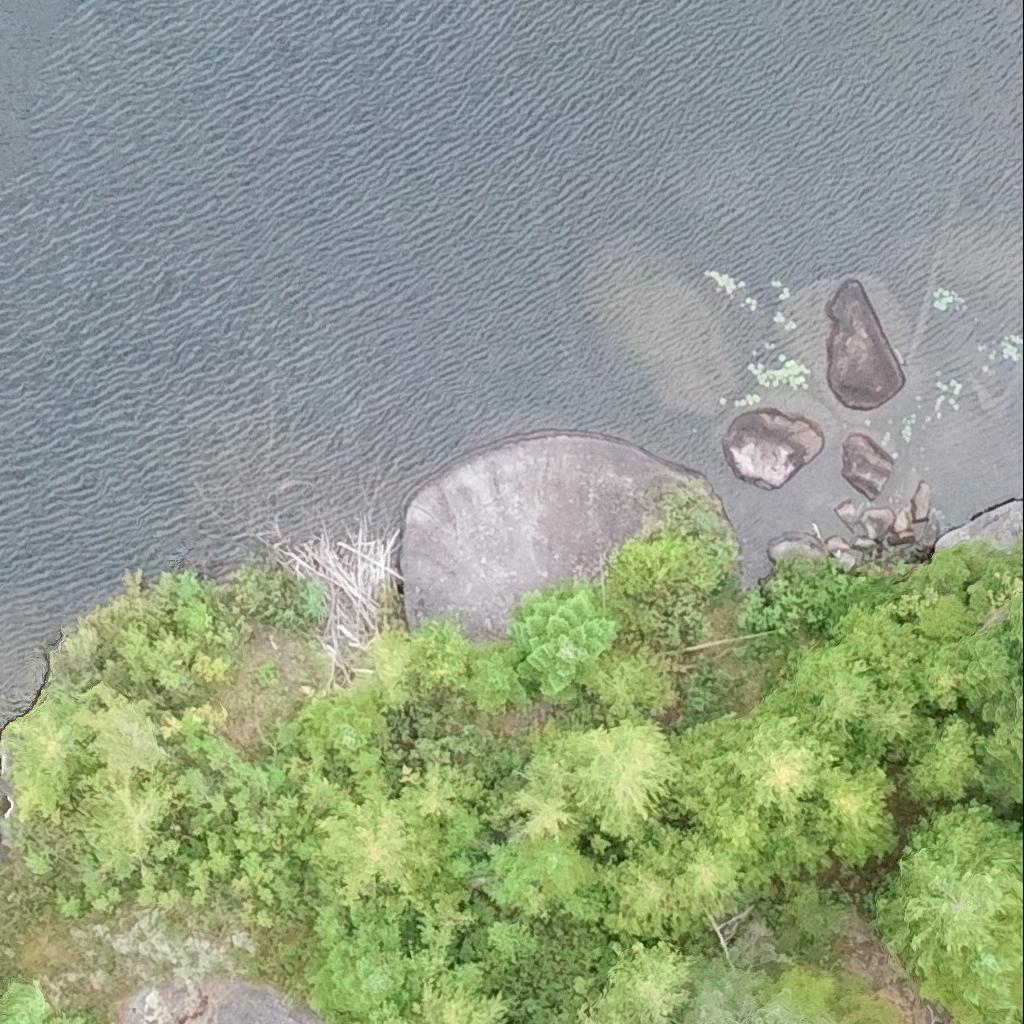crown: (877, 799, 1023, 975), (295, 733, 444, 905), (529, 709, 681, 844), (68, 766, 187, 877), (6, 696, 103, 824), (729, 713, 840, 824), (920, 908, 1023, 1023), (829, 605, 942, 703), (519, 587, 618, 695), (671, 828, 775, 929), (69, 681, 169, 776), (593, 855, 694, 948), (307, 945, 415, 1023), (824, 755, 897, 865), (793, 647, 876, 740), (605, 942, 697, 1023), (898, 713, 980, 803), (584, 648, 681, 718), (958, 617, 1022, 718), (854, 687, 937, 764), (300, 688, 385, 760), (499, 781, 587, 841), (466, 646, 543, 711), (353, 629, 412, 713), (982, 675, 1023, 790), (624, 818, 695, 881), (409, 622, 473, 690), (411, 978, 507, 1023), (416, 760, 484, 822), (609, 538, 689, 590), (916, 642, 973, 709), (0, 979, 86, 1023), (916, 593, 981, 648), (521, 750, 579, 797), (682, 984, 738, 1023), (578, 992, 642, 1023), (363, 1000, 418, 1023), (752, 1004, 809, 1023), (1011, 593, 1023, 675), (353, 1020, 358, 1023)
